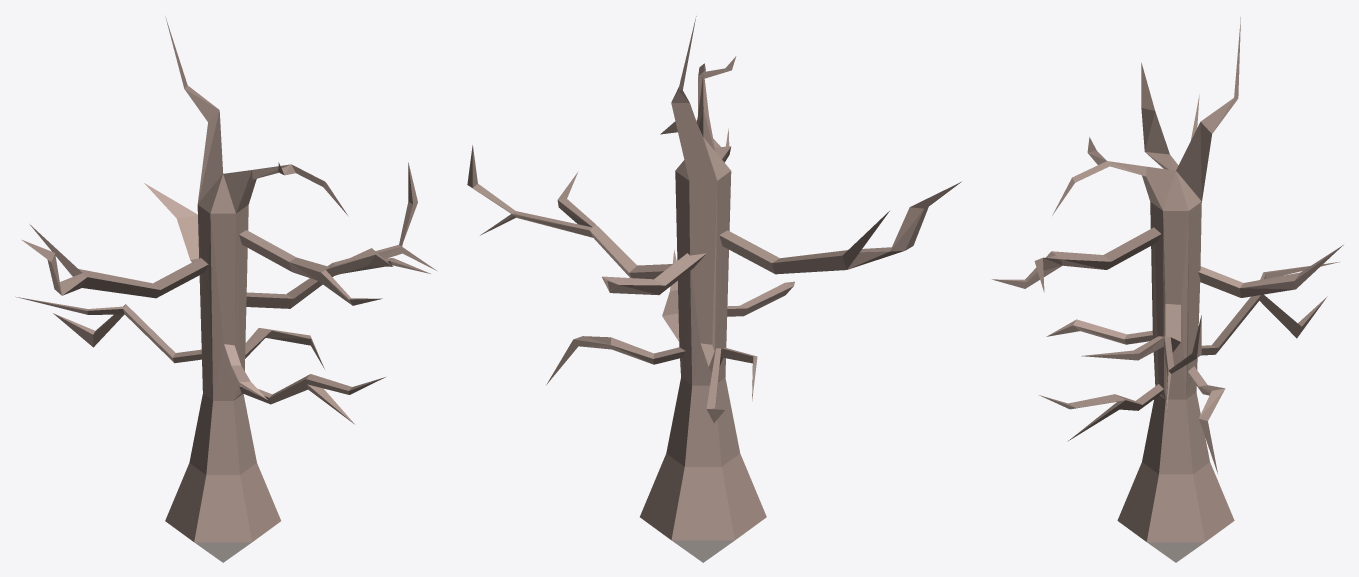
Rendered from TreeDead.fbx.
3 renders of one model, left to right at view 1: azimuth 30°, elevation 25°; view 2: azimuth 150°, elevation 25°; view 3: azimuth 270°, elevation 25°, orthographic. The views are drawn at different scales.
Visible parts, largest first — view 1: TreeDead; view 2: TreeDead; view 3: TreeDead.
Part boxes in pixels (<box>): TreeDead: <box>15,16,436,562</box>; TreeDead: <box>467,16,961,562</box>; TreeDead: <box>992,17,1343,562</box>.
Bounding box in the file's own units: 5.59 × 6.6 × 3.94.
